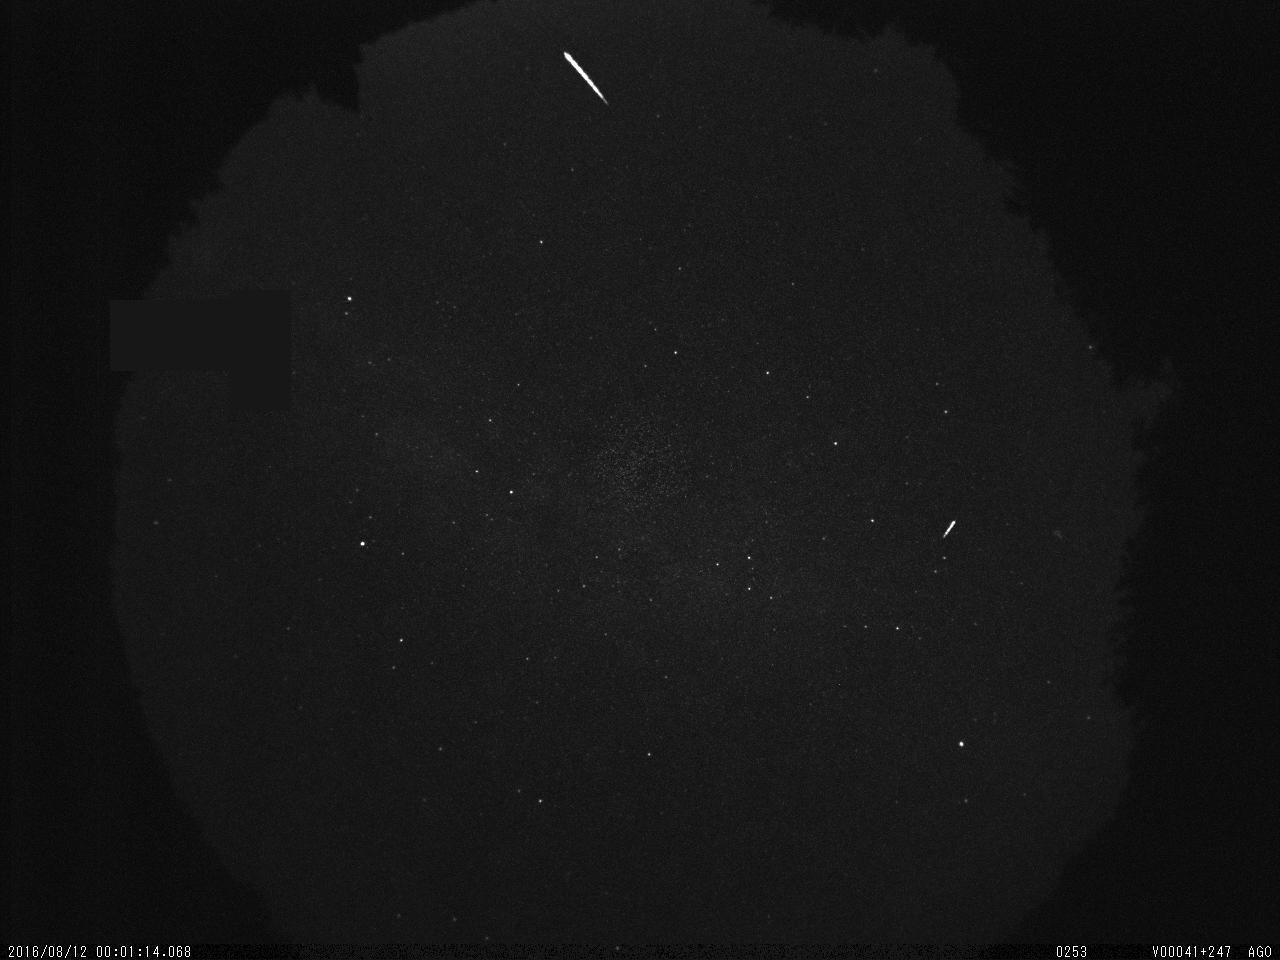Meteor: (561, 50, 608, 105), (940, 516, 958, 541)
